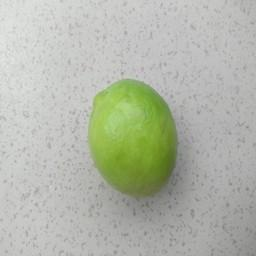Good_lime: (86, 73, 177, 199)
